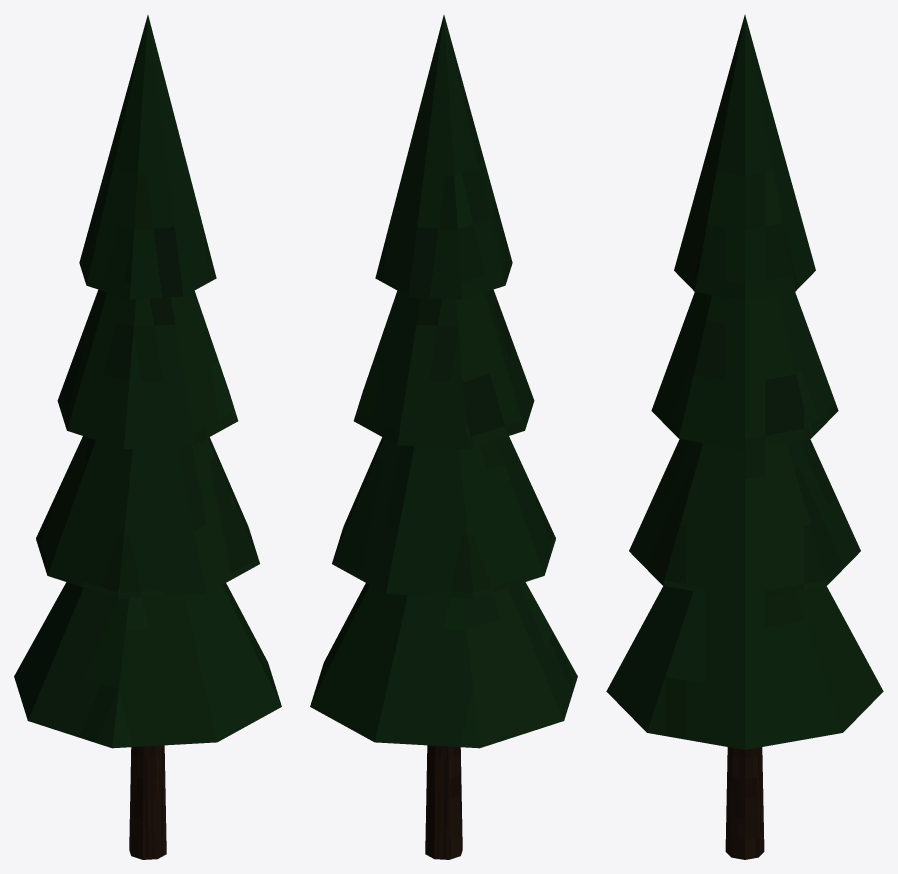
The model's file is pino.glb.
The picture shows the model from 3 angles, left to right: view 1: azimuth 30°, elevation 25°; view 2: azimuth 150°, elevation 25°; view 3: azimuth 270°, elevation 25°; orthographic projection.
Visible parts, largest first — view 1: copa, tronco; view 2: copa, tronco; view 3: copa, tronco.
Boxes of the visible parts, x1,y1,x2,y2 form: copa: (14, 15, 281, 748); tronco: (129, 745, 166, 859); copa: (310, 15, 577, 748); tronco: (425, 745, 462, 859); copa: (606, 15, 883, 749); tronco: (725, 747, 764, 859).
Bounding box in the file's own units: 3 × 10 × 3.
Materials: 1 (1 with a texture image).
